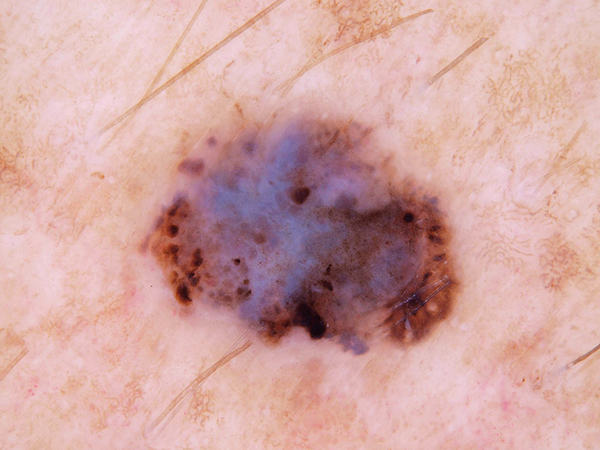Detected Lesion: (137, 99, 473, 382)
